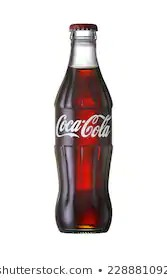coke-glass-bottle: (42, 18, 123, 234)
